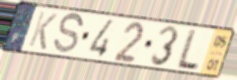2: (113, 20, 147, 65)
3: (149, 24, 181, 68)
4: (86, 18, 118, 60)
K: (26, 10, 60, 52)
L: (173, 28, 202, 73)
S: (51, 12, 85, 57)
